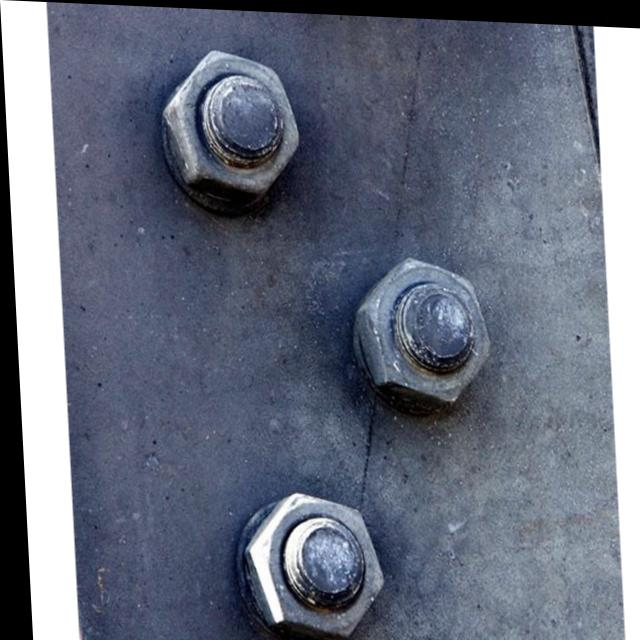Regular bolt: (234, 485, 384, 640), (157, 46, 303, 203), (352, 249, 492, 406)
